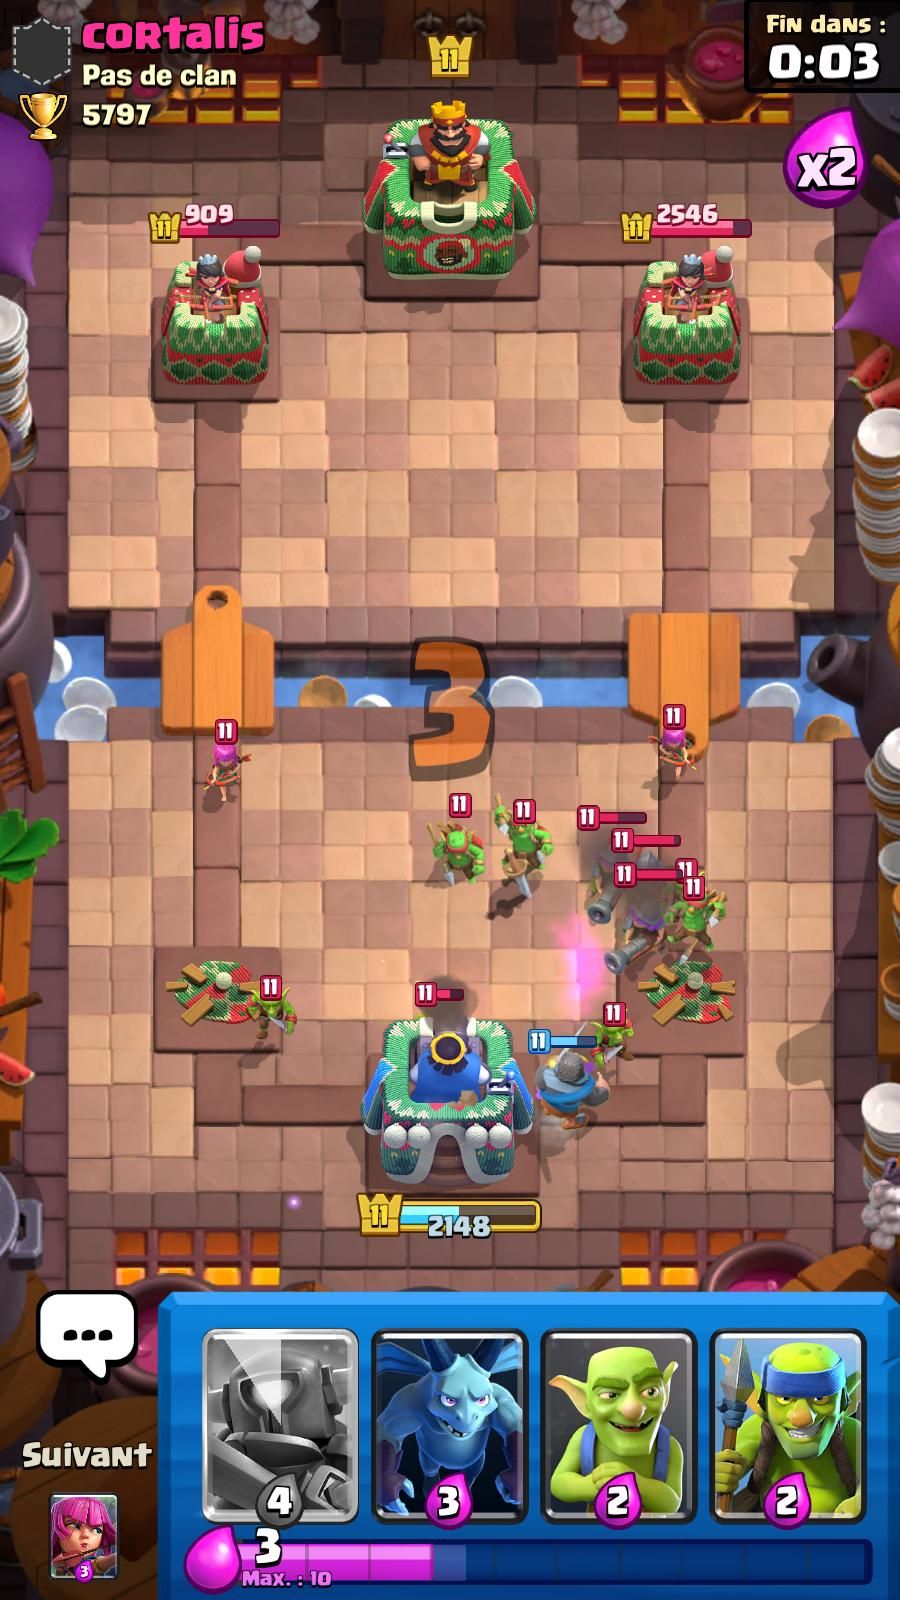archere: (198, 726, 267, 816), (655, 707, 710, 777)
chevalier: (505, 1038, 612, 1143)
gobelin: (582, 999, 642, 1076), (249, 978, 308, 1049), (400, 982, 475, 1032)
gobelin_lances: (496, 787, 566, 880), (421, 802, 493, 886), (662, 885, 742, 954), (658, 863, 720, 922)
mousquetaire: (601, 897, 678, 979), (622, 832, 689, 911), (586, 826, 636, 920)
